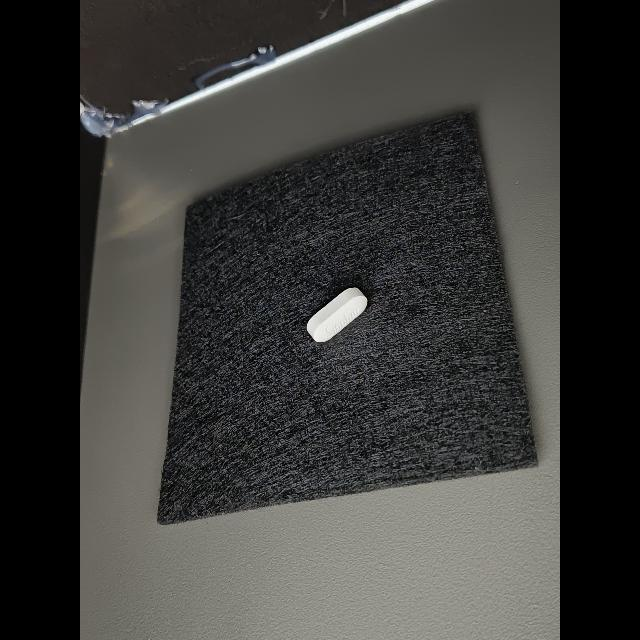Intact Pill: (307, 288, 368, 342)
